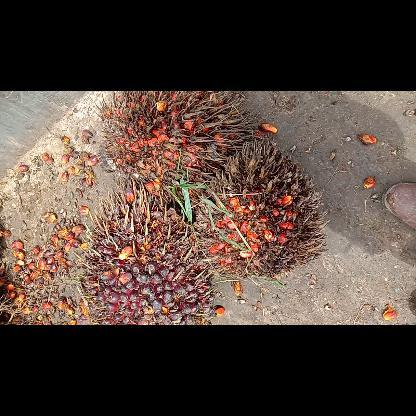TBS masak: (74, 190, 218, 324)
Terlalu masak: (192, 140, 328, 280), (97, 91, 251, 195)
